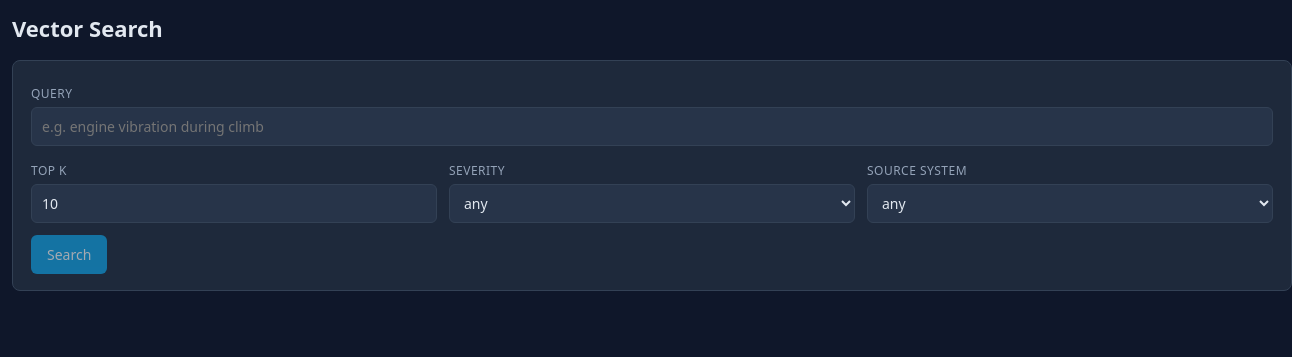
Test: VectorSearch › renders the backend error inside the form on 4xx
Type "q" into the field with placeholder "e.g. engine vibration during climb" at point(652, 126), box top-left (31, 107), bottom-right (1273, 146)
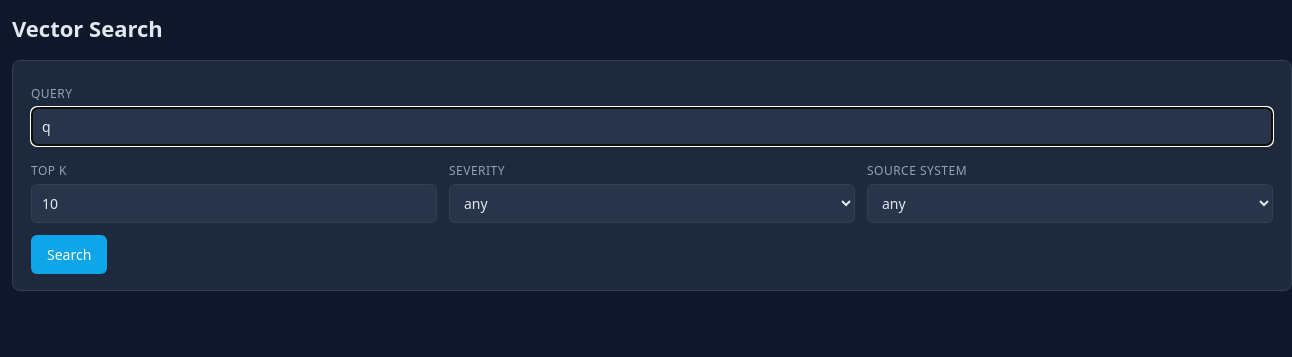
Click the button "Search" at point(69, 254), box top-left (31, 235), bottom-right (107, 274)
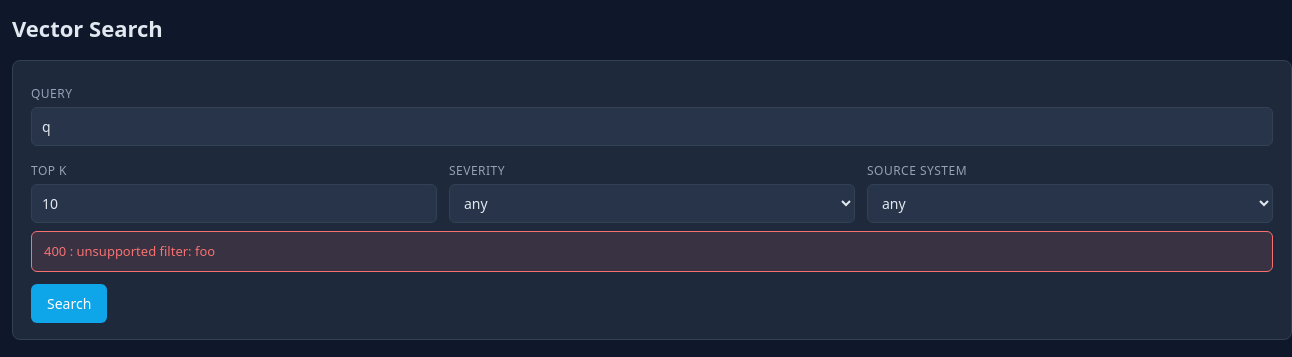
Expected: the text "400 : unsupported filter: foo" is shown, top-left (31, 231), bottom-right (1273, 272)
